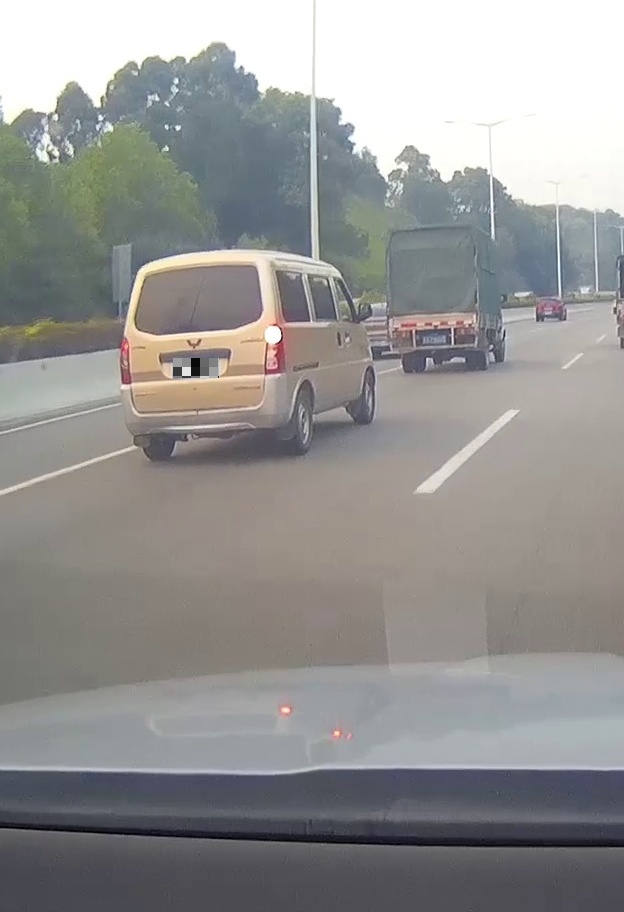L_light: (119, 336, 132, 385), (391, 331, 410, 338)
R_light: (264, 323, 286, 375), (456, 328, 475, 335)
T_light: (187, 267, 215, 271), (426, 327, 444, 329)
day-no: (385, 223, 480, 373)
day-right: (119, 249, 289, 463)
plate_1: (173, 358, 219, 378)
